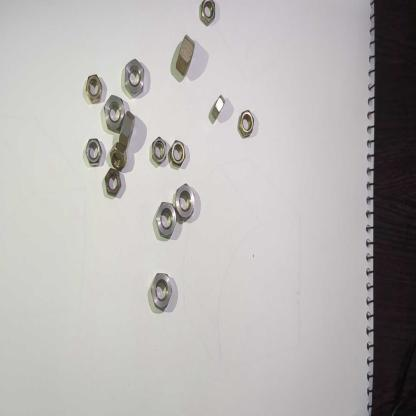NUTS: (147, 268, 176, 314), (174, 30, 197, 80), (123, 52, 146, 101), (154, 198, 178, 244), (173, 180, 197, 225), (102, 93, 125, 138), (116, 107, 138, 149), (84, 134, 104, 170), (147, 134, 168, 168), (107, 141, 129, 173), (168, 136, 188, 171), (84, 71, 103, 107), (102, 168, 122, 200), (237, 107, 256, 140), (210, 92, 228, 124), (198, 0, 218, 27)
